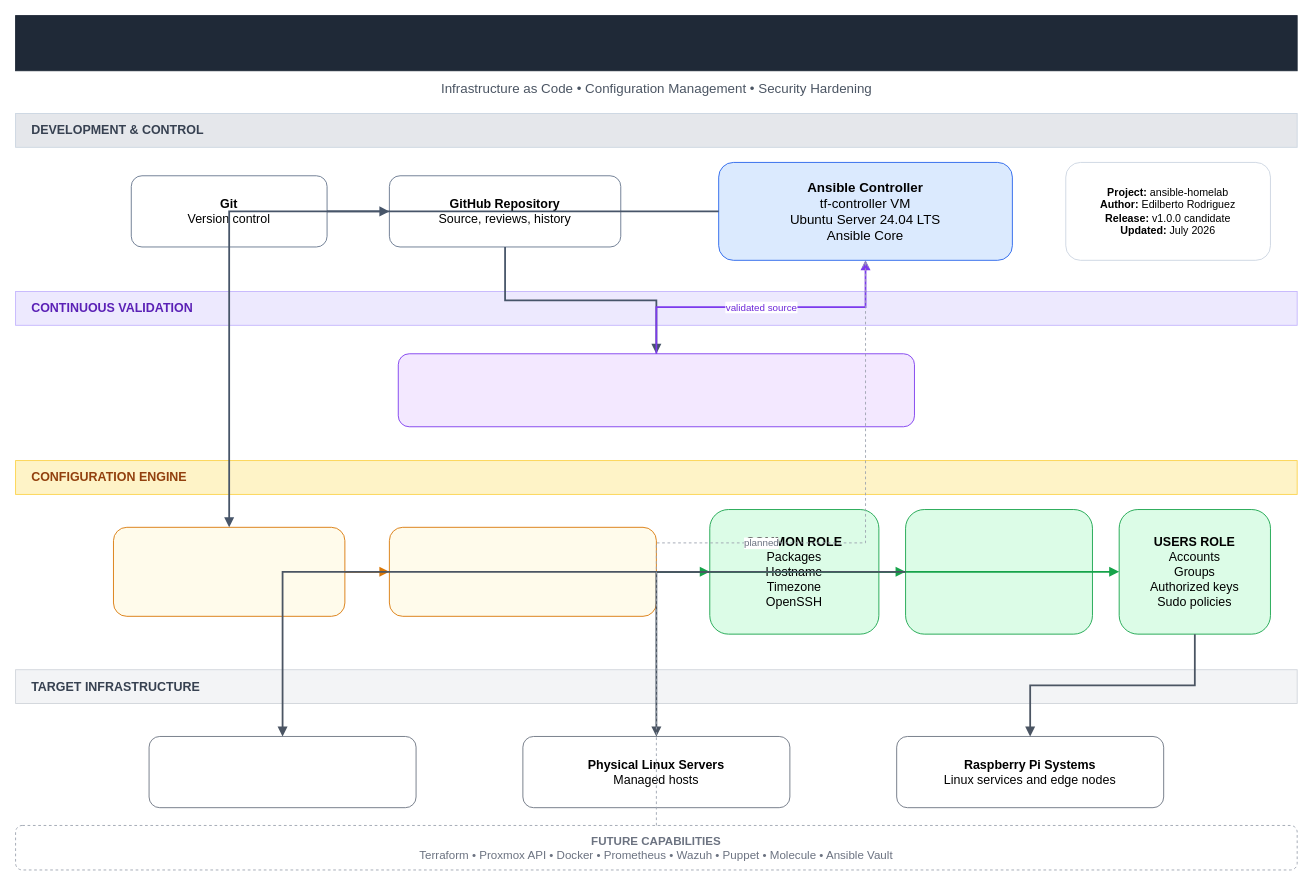
Image size: 1313x886. Some labels were removed from this diagram. The shapes that lost their labels are listed below. From the top down, each one's centre as x and y in pixels, then its label:
point (656, 43): ANSIBLE HOMELAB ARCHITECTURE
point (655, 390): GitHub Actions CI yamllint • ansible-lint • syntax-check
point (229, 571): Inventory homelab / lab group_vars / host_vars
point (522, 571): Feature Flags Host-specific and environment-specific behavior
point (998, 571): SECURITY ROLE UFW / Fail2ban auditd / Chrony sysctl hardening Unattended updates
point (282, 772): Proxmox Virtual Machines Ubuntu Server workloads
